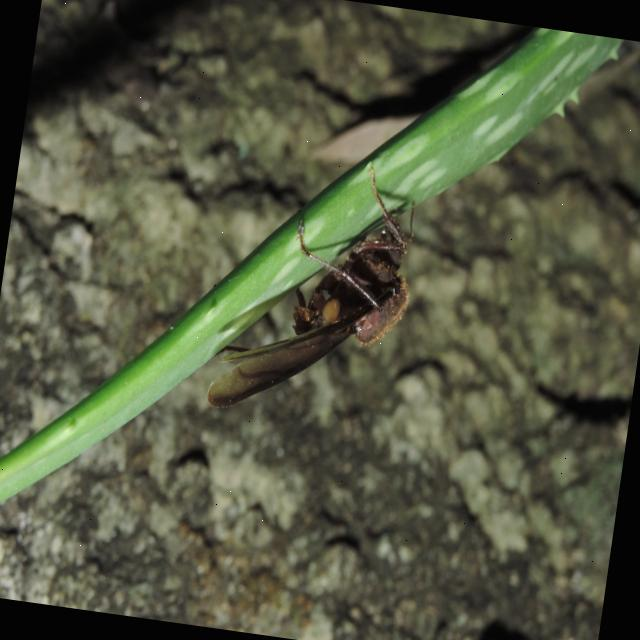Alive-Female-Alate: (205, 150, 427, 433)
